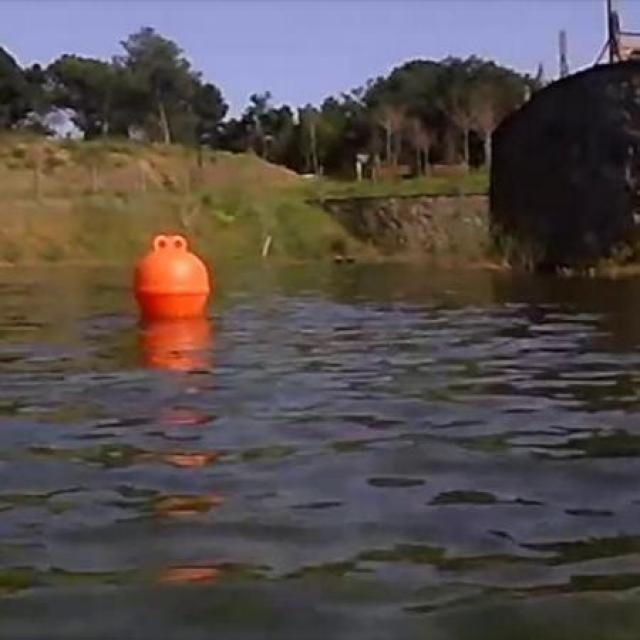buoy: (132, 232, 212, 316)
